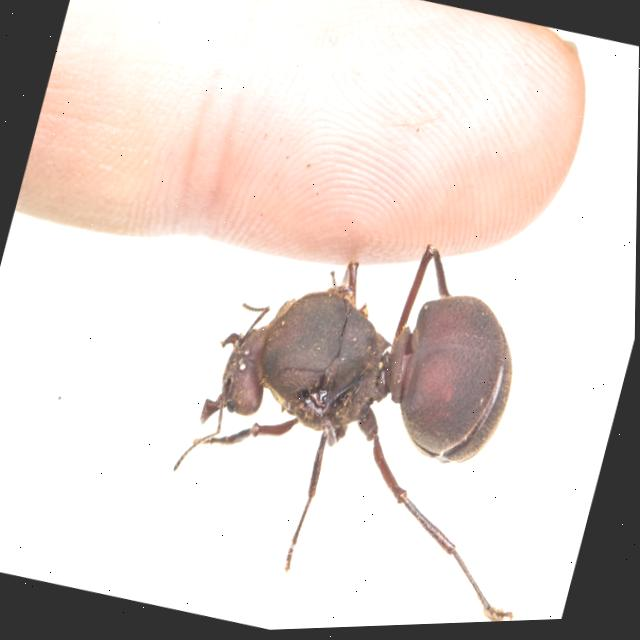Alive-Female-Dealate: (152, 194, 606, 635)
